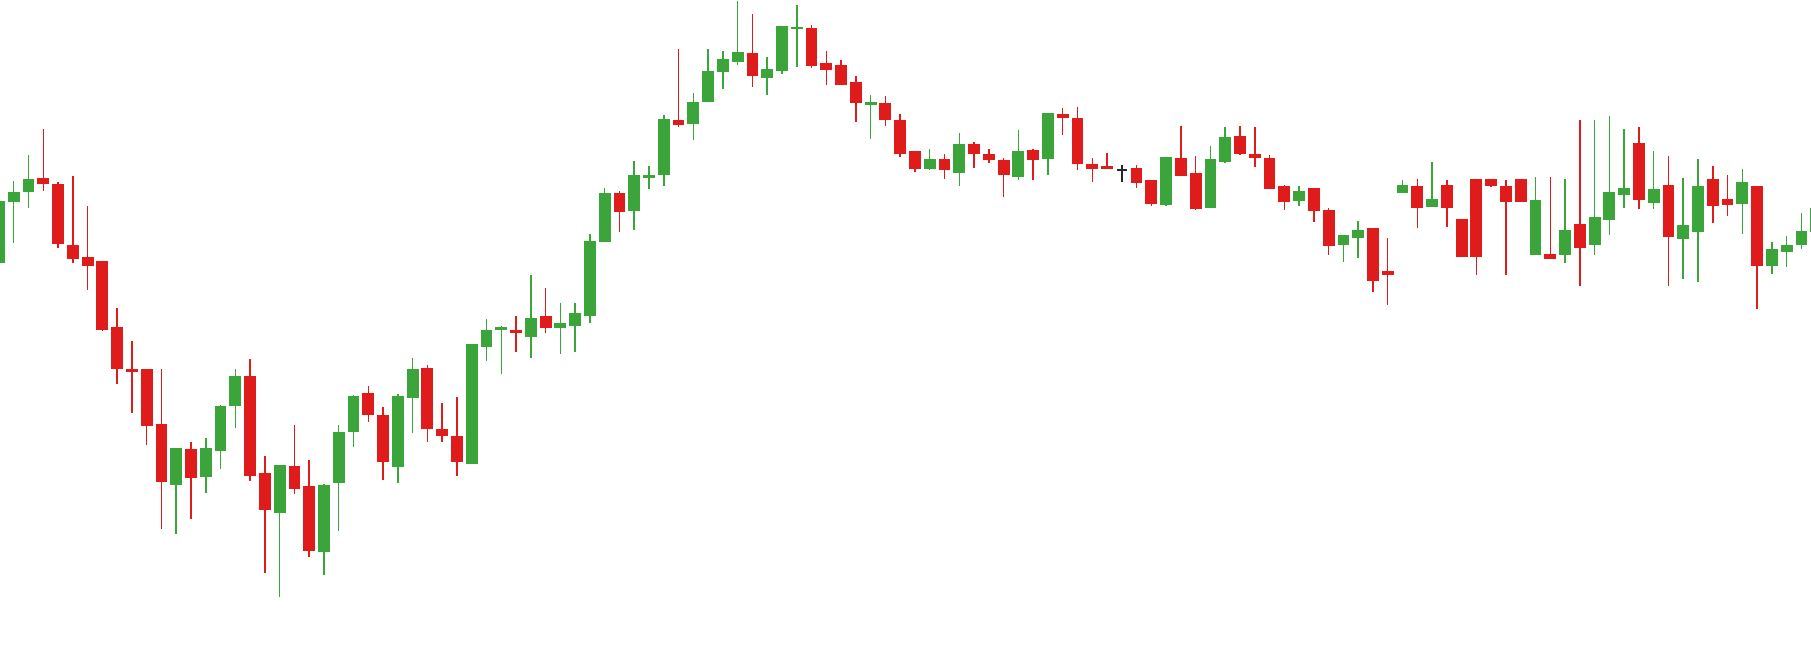buy: (156, 391, 286, 602)
